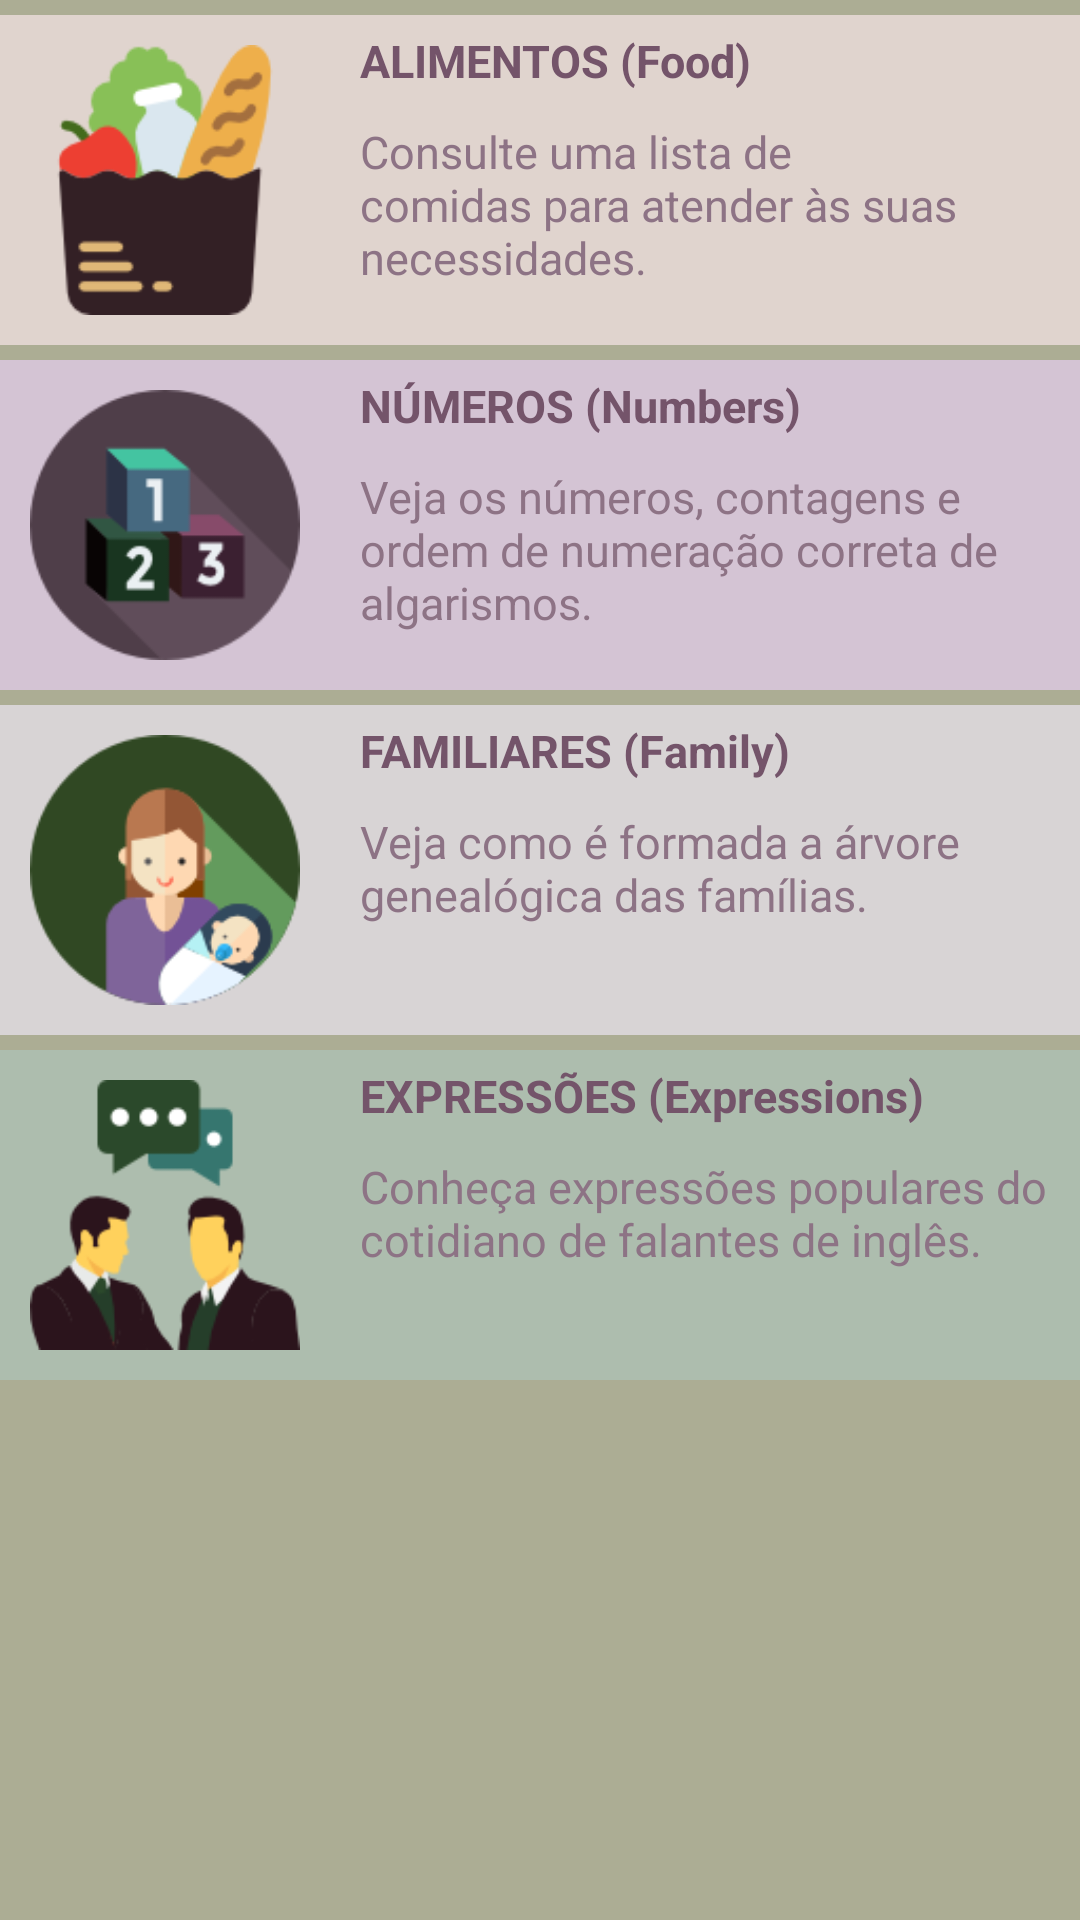

Icon bounding boxes for this 1080px x 1920px phone screenshot, format (x1, y1, x2, y2):
cubes: (30, 390, 300, 660)
groceries: (58, 45, 271, 315)
mother: (30, 735, 300, 1005)
